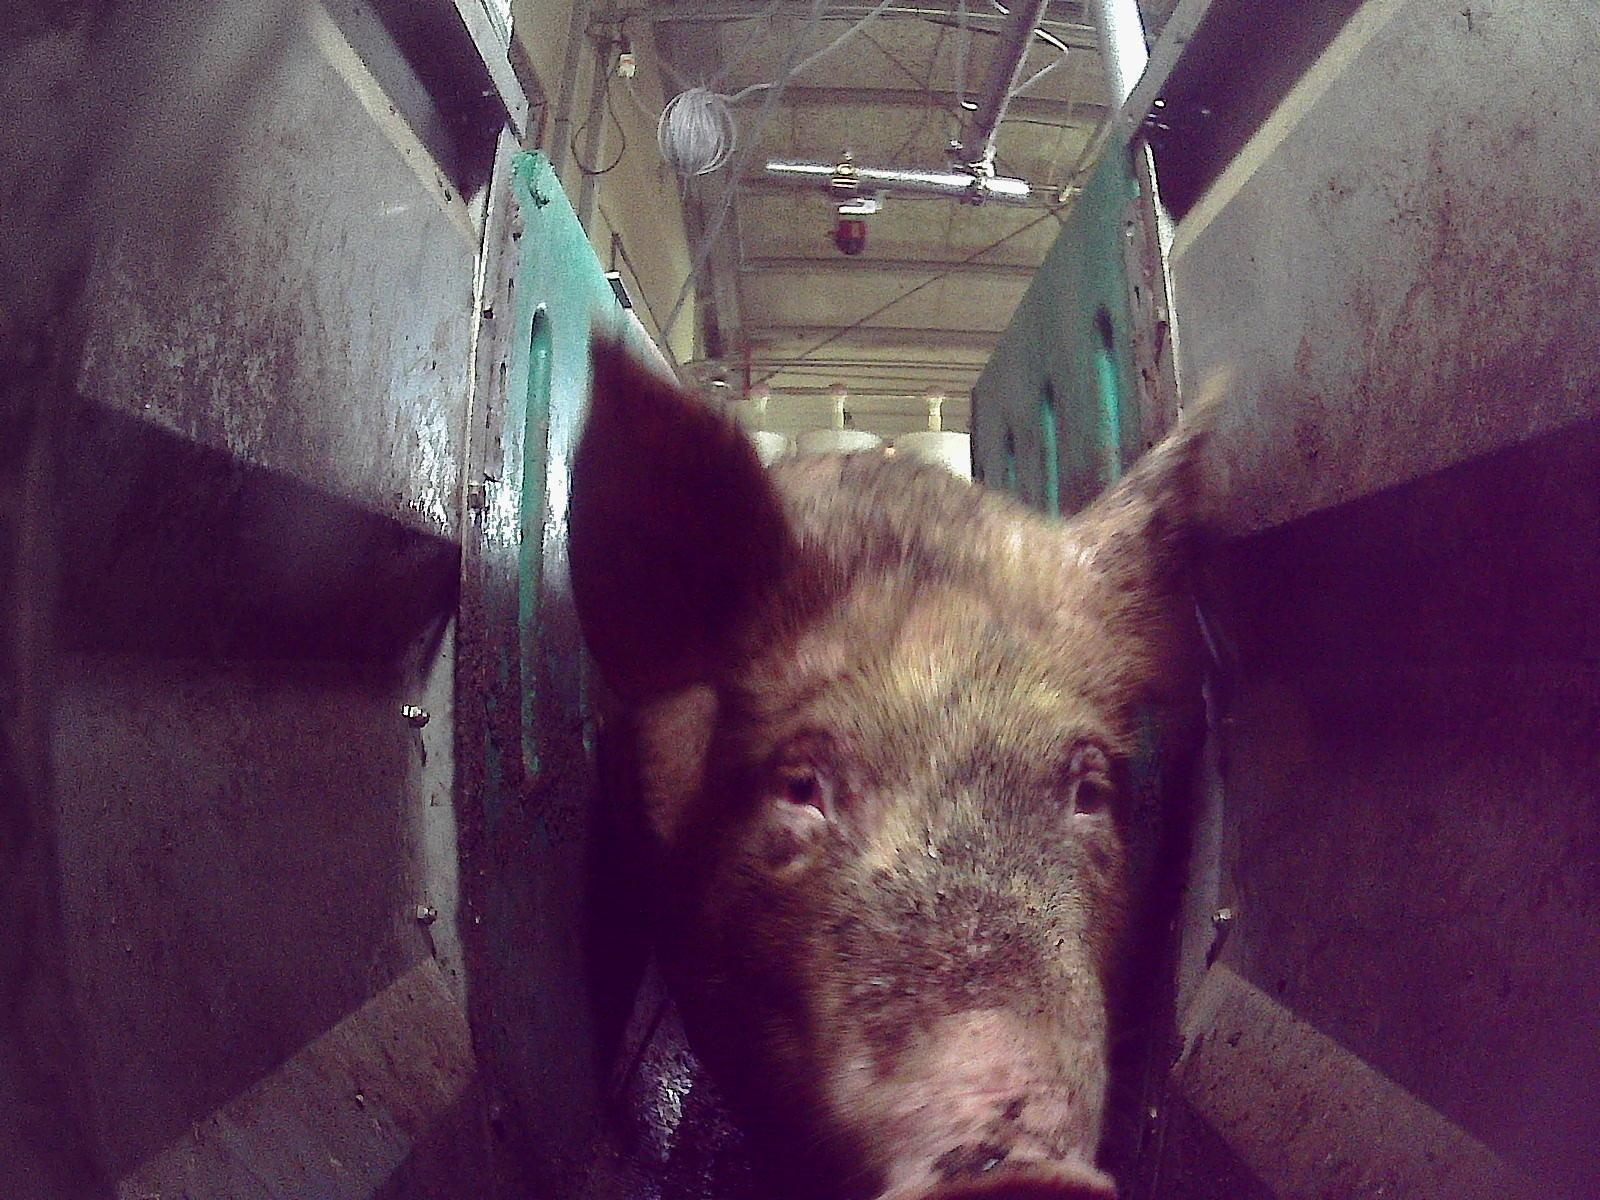Face: (670, 525, 1155, 1199)
